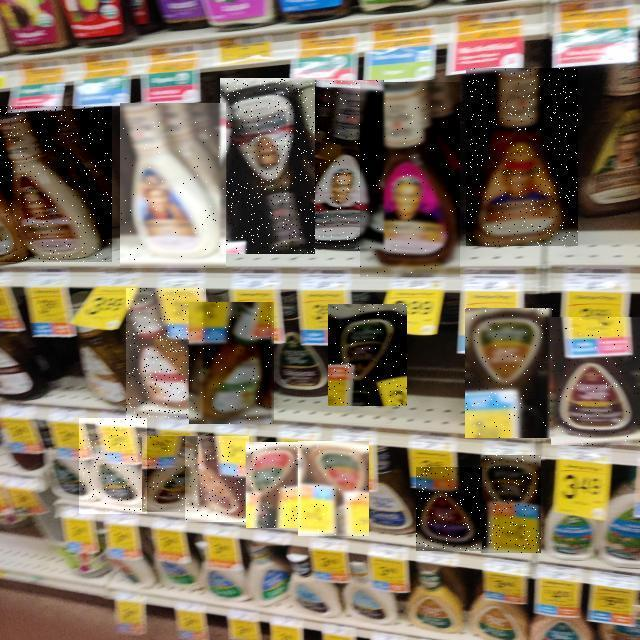Sauce: (467, 68, 579, 246), (360, 82, 460, 277), (120, 104, 226, 270), (0, 107, 112, 263), (220, 78, 315, 254), (289, 80, 384, 249), (466, 308, 554, 438), (551, 317, 640, 445), (190, 302, 276, 424), (127, 288, 207, 418), (328, 304, 407, 406), (298, 442, 369, 538), (79, 418, 147, 514), (481, 455, 541, 553), (416, 467, 482, 551), (185, 436, 249, 522), (246, 442, 301, 528), (142, 437, 198, 513)
